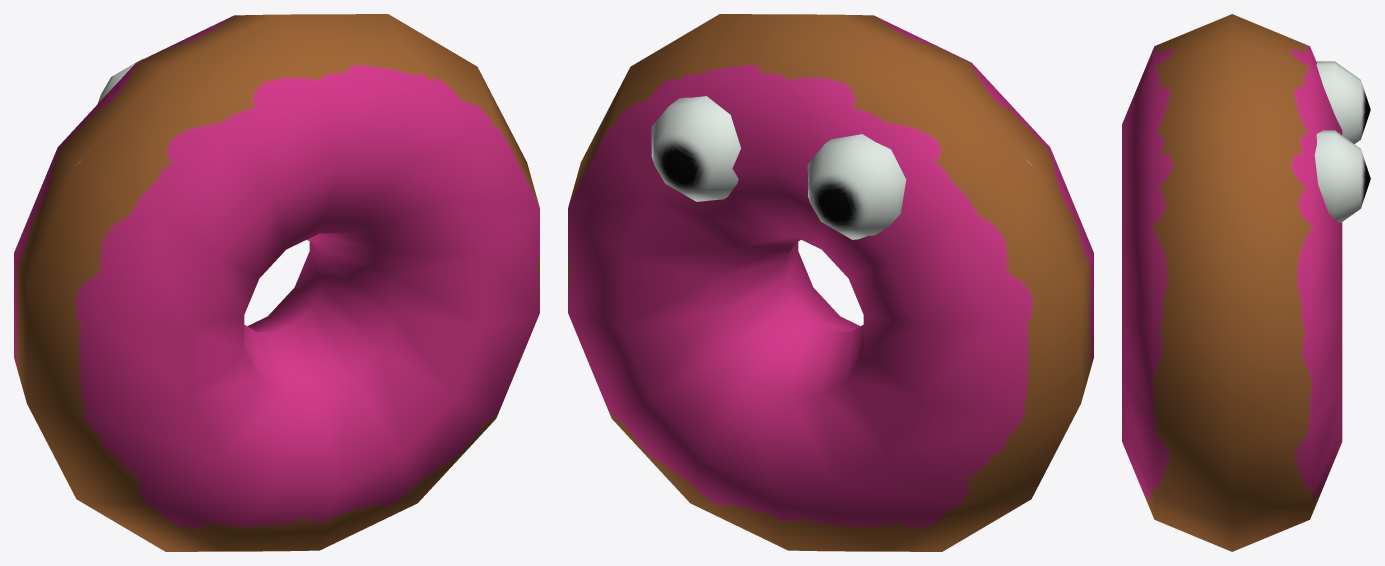
File: Donut.FBX
3 views of the same model, side by side, from view 1: azimuth 30°, elevation 25°; view 2: azimuth 150°, elevation 25°; view 3: azimuth 270°, elevation 25° (orthographic). The views are drawn at different scales.
Parts seen in each view (by area): view 1: Paczek; view 2: Paczek, Oczy; view 3: Paczek, Oczy.
Boxes of the visible parts, left/top/right/bottom form: Paczek: left=14, top=14, right=539, bottom=551; Paczek: left=568, top=14, right=1093, bottom=551; Oczy: left=651, top=96, right=906, bottom=239; Paczek: left=1122, top=14, right=1342, bottom=551; Oczy: left=1314, top=61, right=1370, bottom=222.
Size of the model in its own units: 4.23 by 4.34 by 2.01.
